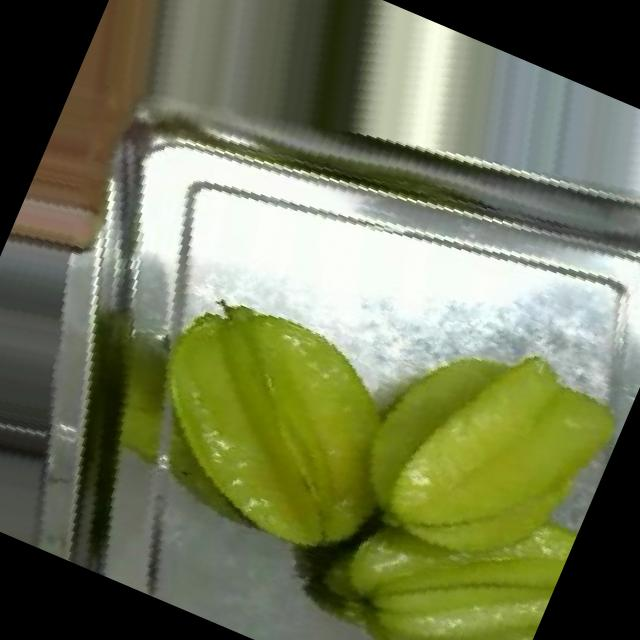fruit: (70, 240, 474, 636), (259, 272, 640, 640)
